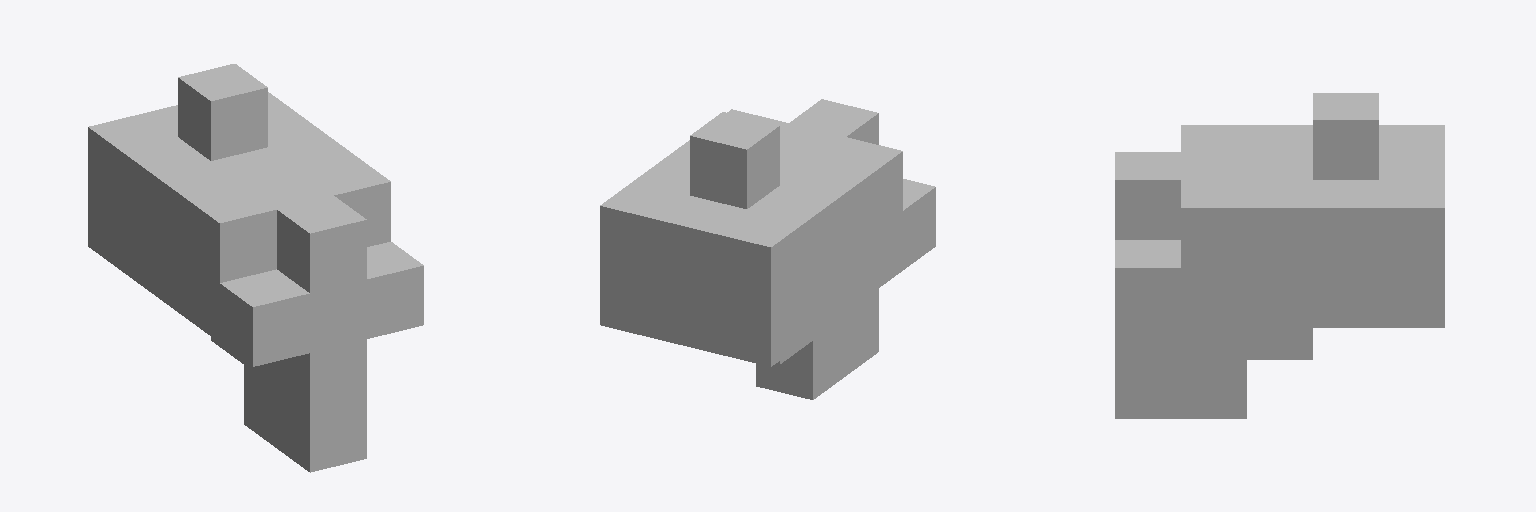
Rendered from gun.obj.
3 views of the same model, side by side, from view 1: azimuth 30°, elevation 25°; view 2: azimuth 150°, elevation 25°; view 3: azimuth 270°, elevation 25° (orthographic).
Parts seen in each view (by area): view 1: object 1; view 2: object 1; view 3: object 1.
Part boxes in pixels (left/top/right/bottom): object 1: left=88, top=64, right=423, bottom=472; object 1: left=600, top=99, right=935, bottom=399; object 1: left=1115, top=93, right=1444, bottom=418.
Size of the model in its own units: 0.3 by 0.5 by 0.5.